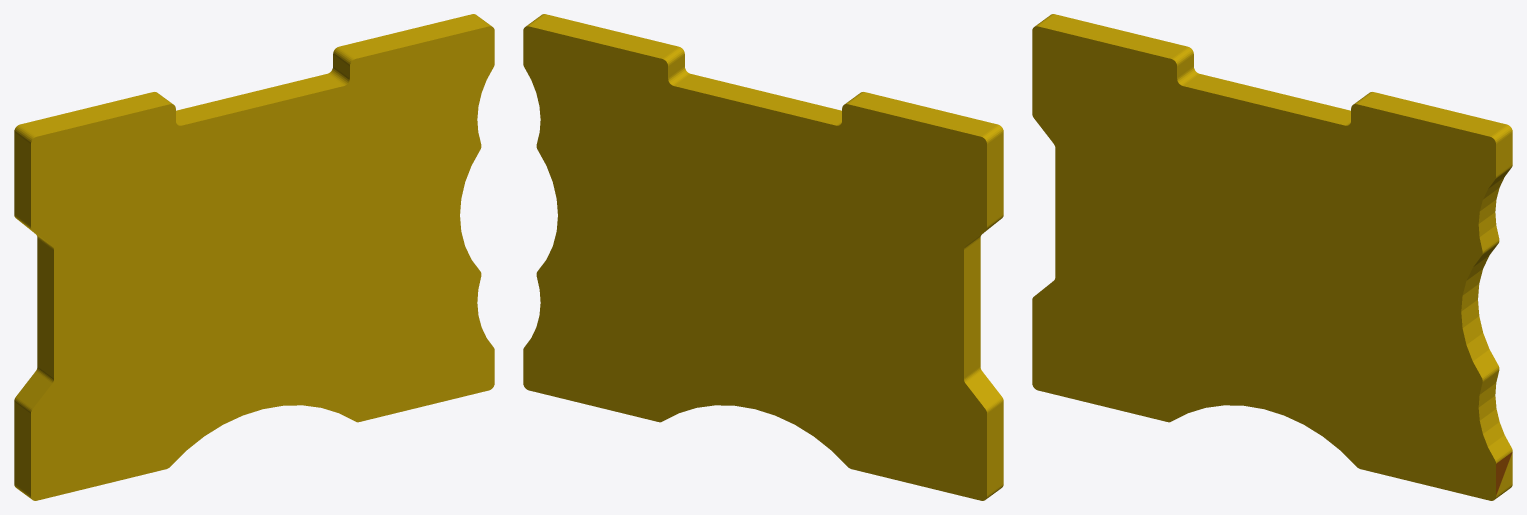
Rendered from wood.dae.
3 views of the same model, side by side, from view 1: azimuth 30°, elevation 25°; view 2: azimuth 150°, elevation 25°; view 3: azimuth 330°, elevation 25° (orthographic).
Visible parts, largest first — view 1: ShapeIndexedFaceSet; view 2: ShapeIndexedFaceSet; view 3: ShapeIndexedFaceSet.
Boxes of the visible parts, left/top/right/bottom form: ShapeIndexedFaceSet: left=14, top=14, right=494, bottom=500; ShapeIndexedFaceSet: left=523, top=14, right=1003, bottom=500; ShapeIndexedFaceSet: left=1032, top=14, right=1512, bottom=500.
Size of the model in its own units: 0.8 by 0.05 by 0.6.
